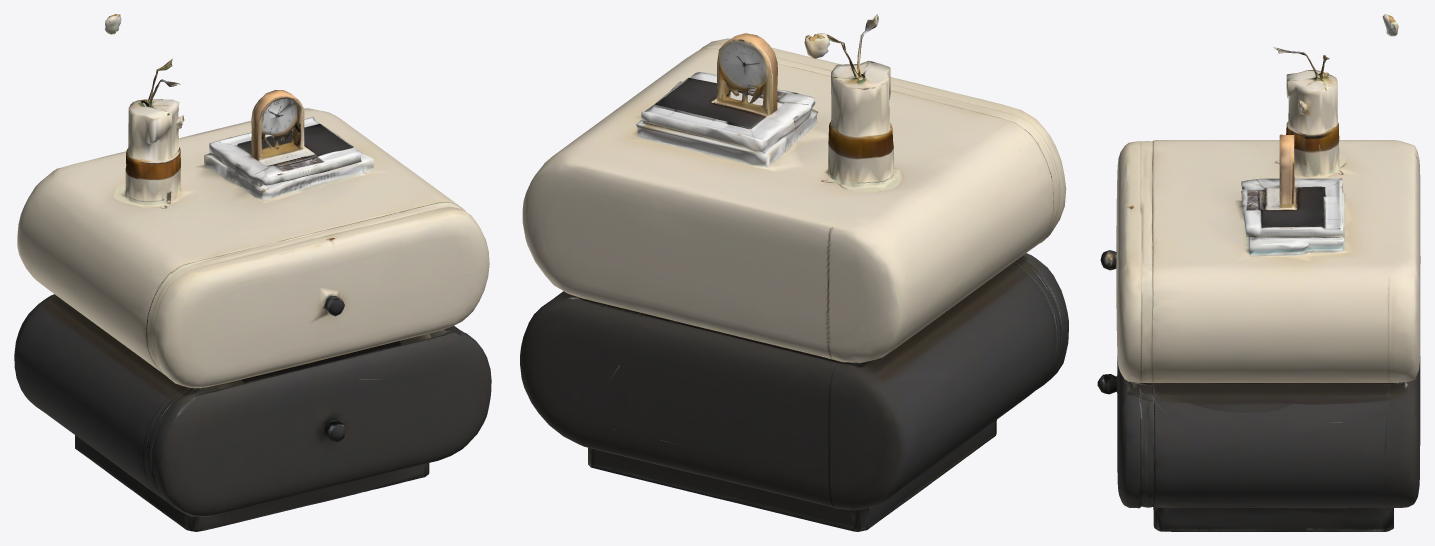
Rendered from sidetable.glb.
3 views of the same model, side by side, from view 1: azimuth 30°, elevation 25°; view 2: azimuth 150°, elevation 25°; view 3: azimuth 270°, elevation 25° (orthographic). The views are drawn at different scales.
Bounding box in the file's own units: 1.68 × 2 × 1.4.
1 material, 1 textured.
